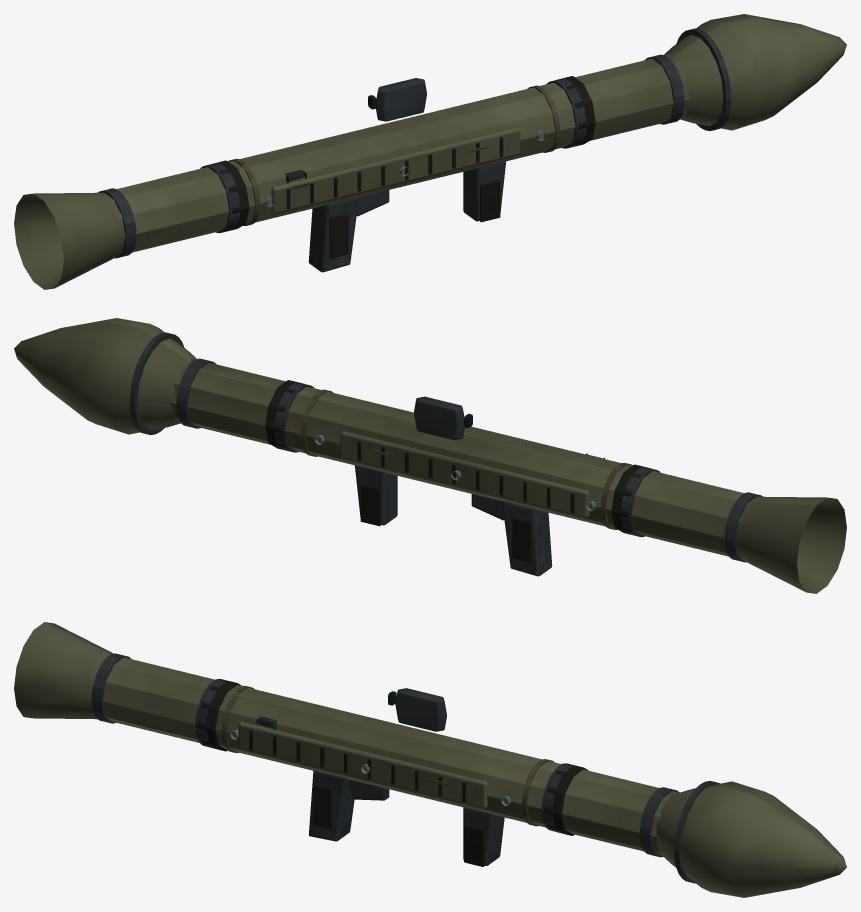
Rendered from rpg.glb.
3 views of the same model, one above another, from view 1: azimuth 30°, elevation 25°; view 2: azimuth 150°, elevation 25°; view 3: azimuth 330°, elevation 25° (orthographic).
Visible parts, largest first — view 1: rpg_premium; view 2: rpg_premium; view 3: rpg_premium.
Part boxes in pixels (box(x1,y1,x2,y2)): rpg_premium: box(14, 14, 846, 289); rpg_premium: box(14, 318, 846, 593); rpg_premium: box(14, 622, 846, 897).
Bounding box in the file's own units: 1.4 × 0.2553 × 0.17.
7 materials, 7 textured.
